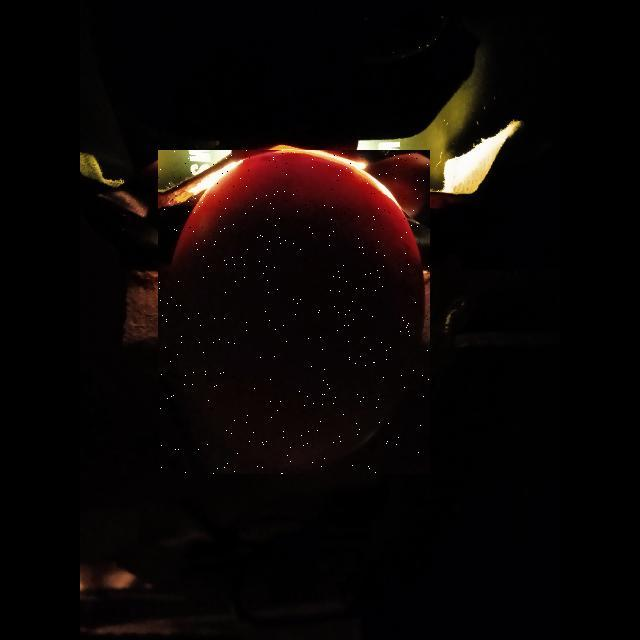Fertile: (158, 150, 430, 474)
